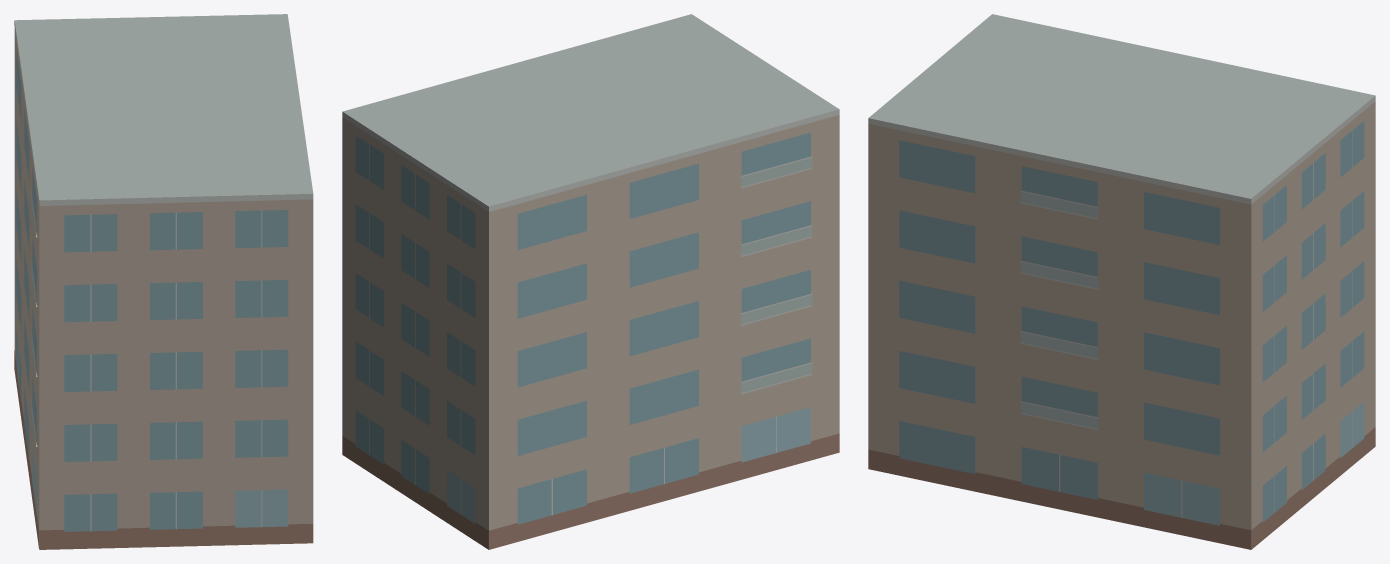
Rendered from survey-upis-32823375.glb.
The picture shows the model from 3 angles, left to right: view 1: azimuth 30°, elevation 25°; view 2: azimuth 150°, elevation 25°; view 3: azimuth 270°, elevation 25°; orthographic projection. The views are drawn at different scales.
Visible parts, largest first — view 1: survey-upis-32823375.tmp; view 2: survey-upis-32823375.tmp; view 3: survey-upis-32823375.tmp.
Part boxes in pixels (x1=…): survey-upis-32823375.tmp: x1=14, y1=14, x2=313, y2=549; survey-upis-32823375.tmp: x1=342, y1=14, x2=839, y2=549; survey-upis-32823375.tmp: x1=868, y1=14, x2=1375, y2=549.
Bounding box in the file's own units: 17.24 × 15.25 × 19.99.
